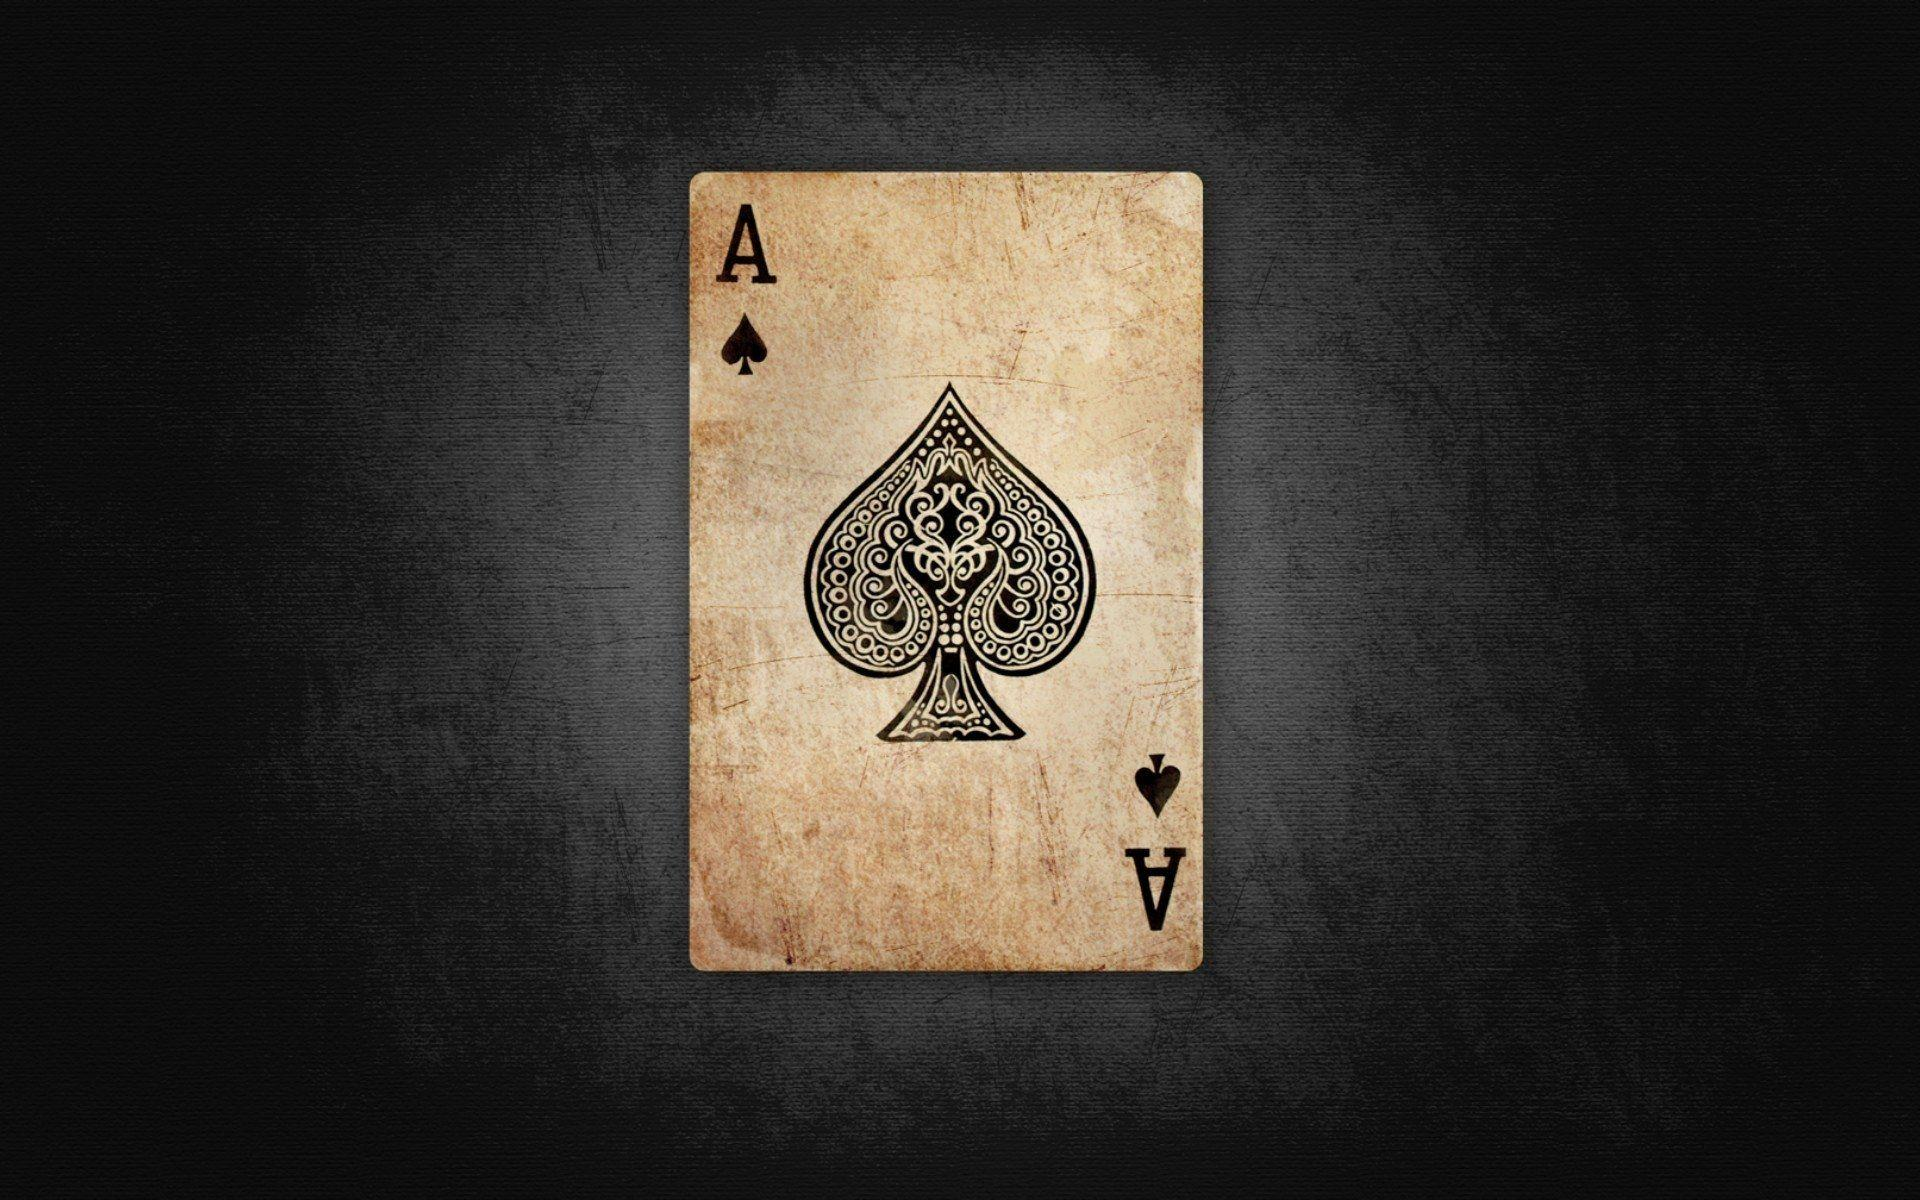ace of spades: (692, 170, 1204, 964)
